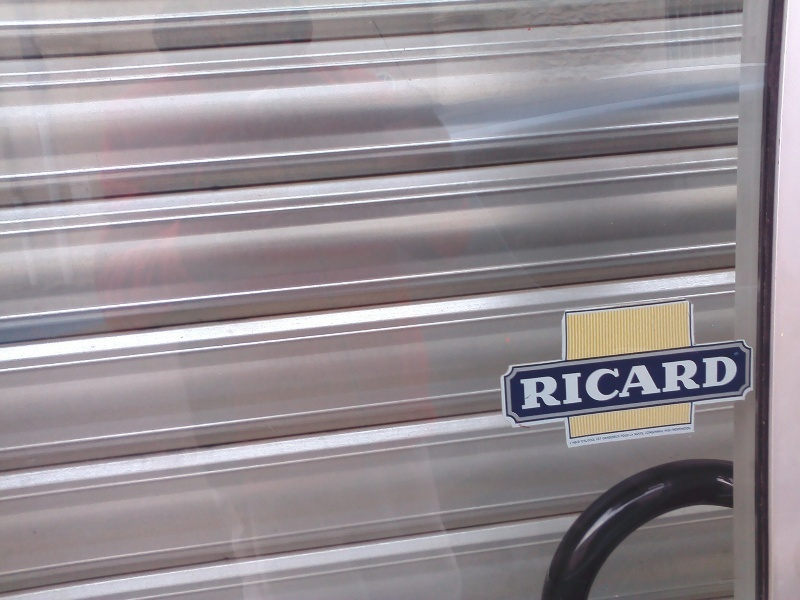text: (529, 354, 544, 411), (545, 354, 560, 411), (561, 354, 576, 411), (577, 354, 592, 411), (593, 354, 608, 411), (609, 354, 624, 411), (625, 354, 640, 411), (641, 354, 656, 411), (657, 354, 672, 411), (673, 354, 688, 411), (689, 354, 704, 411), (705, 354, 720, 411), (721, 354, 736, 411), (517, 354, 528, 411), (577, 426, 592, 446), (593, 426, 608, 446), (609, 426, 624, 446), (625, 426, 640, 446), (641, 426, 656, 446), (657, 426, 672, 446), (673, 426, 688, 446), (737, 354, 740, 411), (568, 426, 576, 446), (689, 426, 692, 446)
